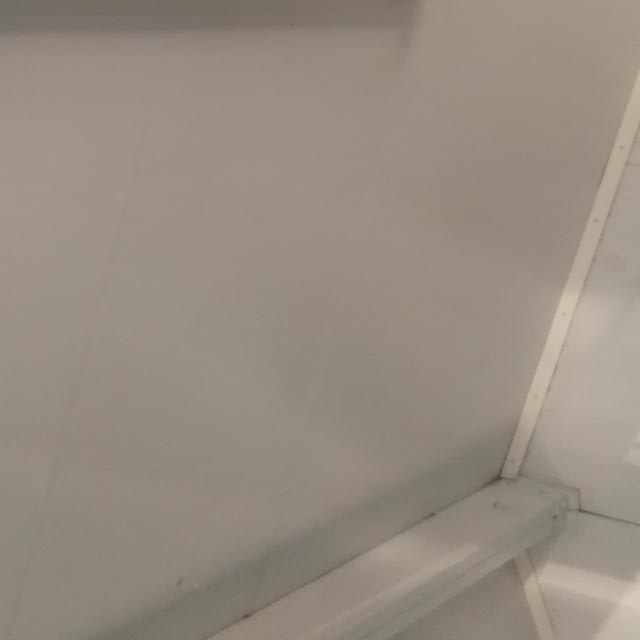fluorescent tube: (0, 0, 491, 14)
